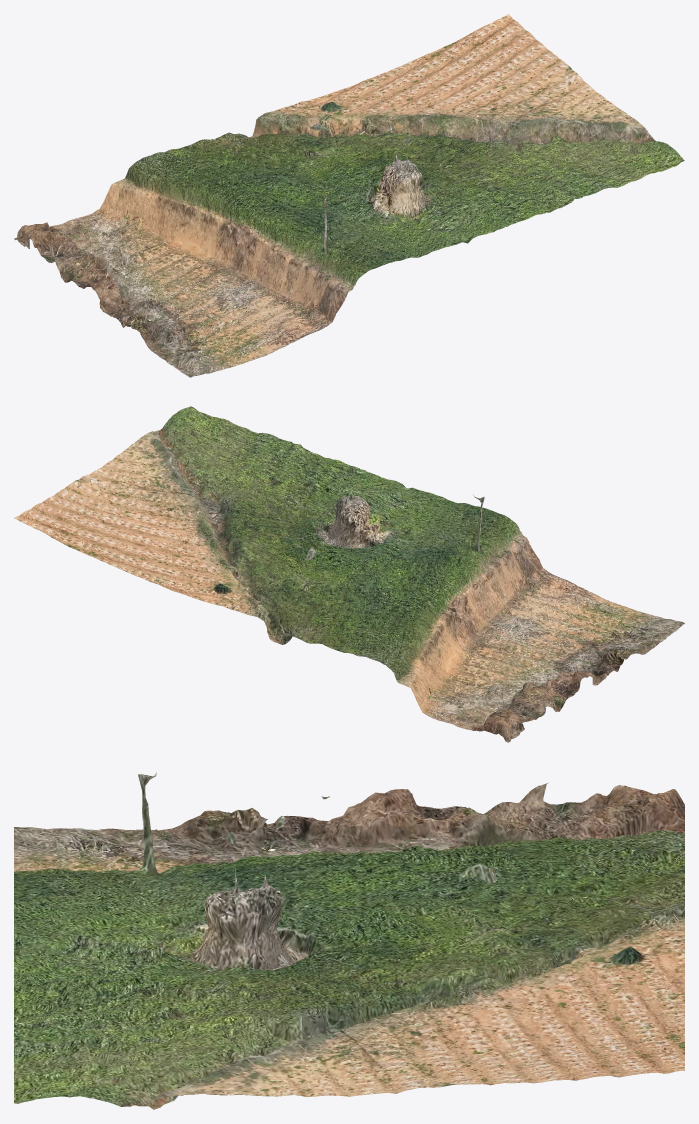
Rendered from BlockBBYA_L21_67.glb.
3 renders of one model, top to bottom at view 1: azimuth 30°, elevation 25°; view 2: azimuth 150°, elevation 25°; view 3: azimuth 270°, elevation 25°, orthographic. The views are drawn at different scales.
Visible parts, largest first — view 1: rtc; view 2: rtc; view 3: rtc.
Part boxes in pixels (box(x1,y1,x2,y2)): rtc: box(14, 14, 684, 377); rtc: box(14, 406, 684, 742); rtc: box(14, 772, 684, 1109).
Bounding box in the file's own units: 31.76 × 10.17 × 19.6.
4 materials, 4 textured.
